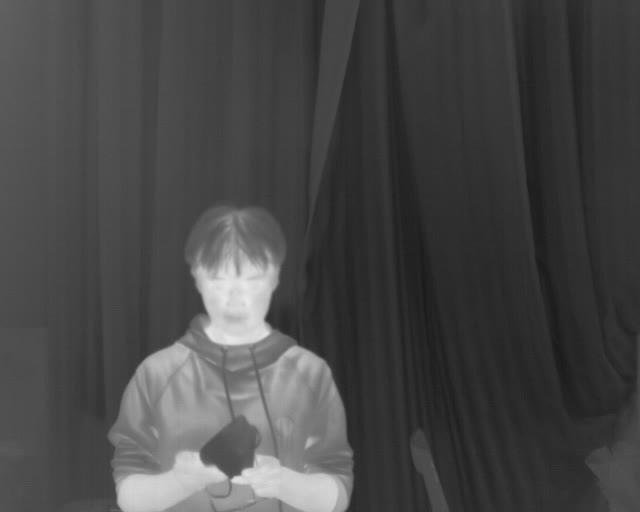face: (190, 205, 285, 335)
